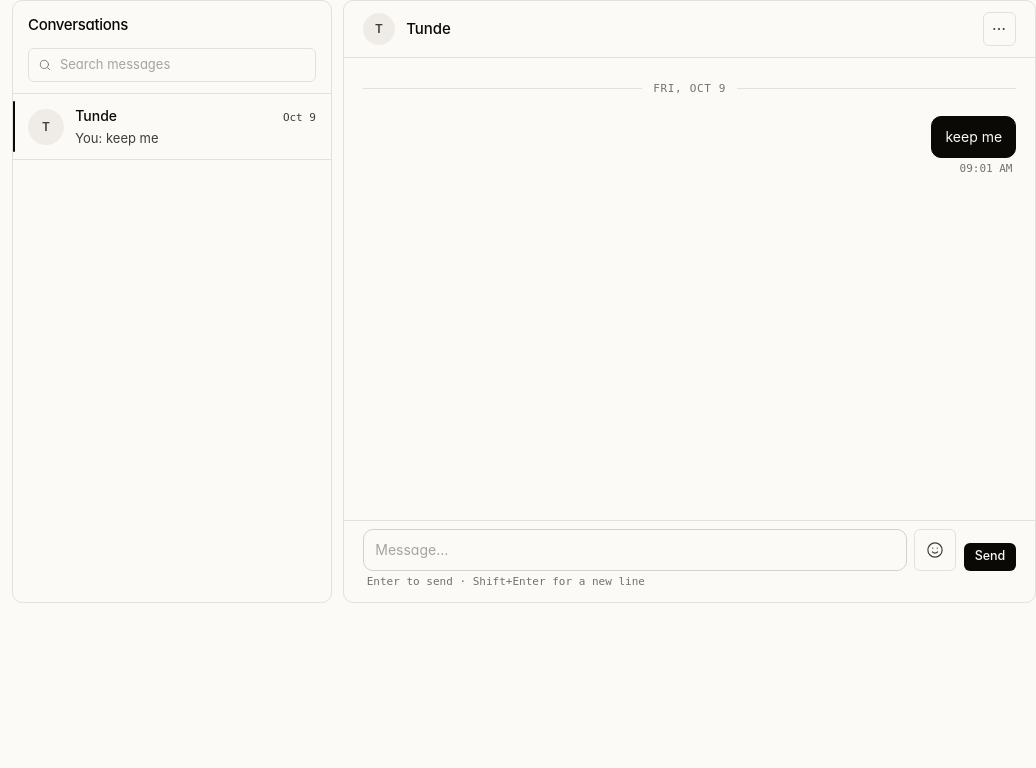
Test: edit and delete (owner ruling 2) › Escape cancels an edit and keeps the original
Right-click the text "keep me": (974, 137) [931,116,1016,158]
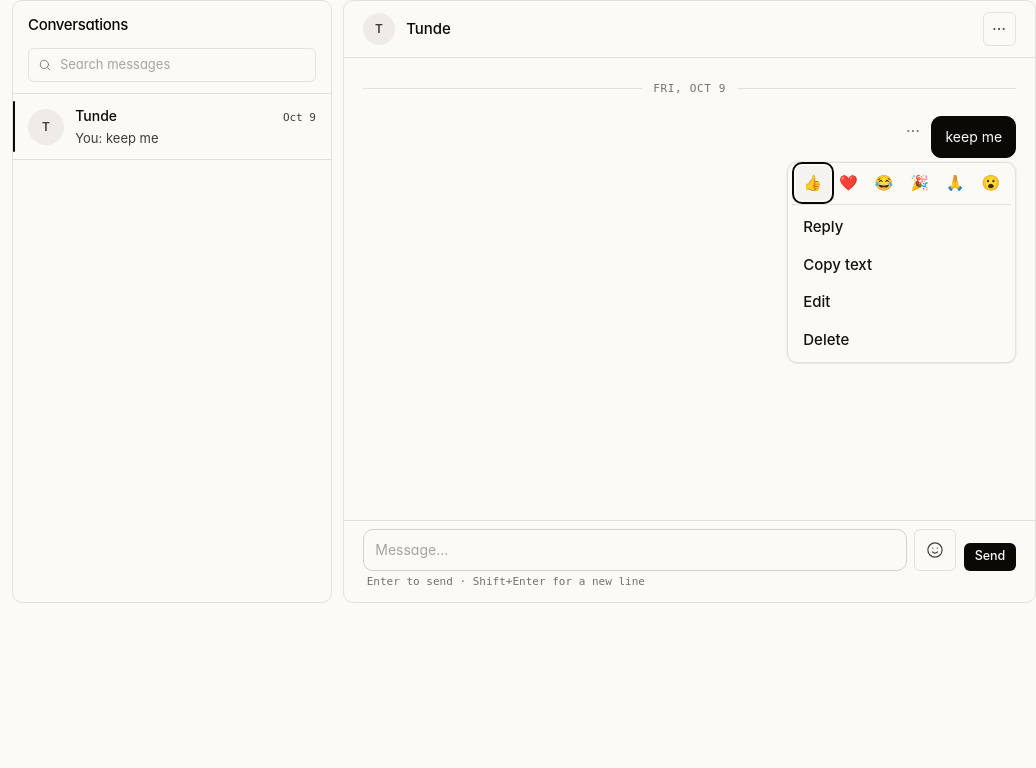
Click the menu item "Edit": (902, 302) [792,284,1011,321]
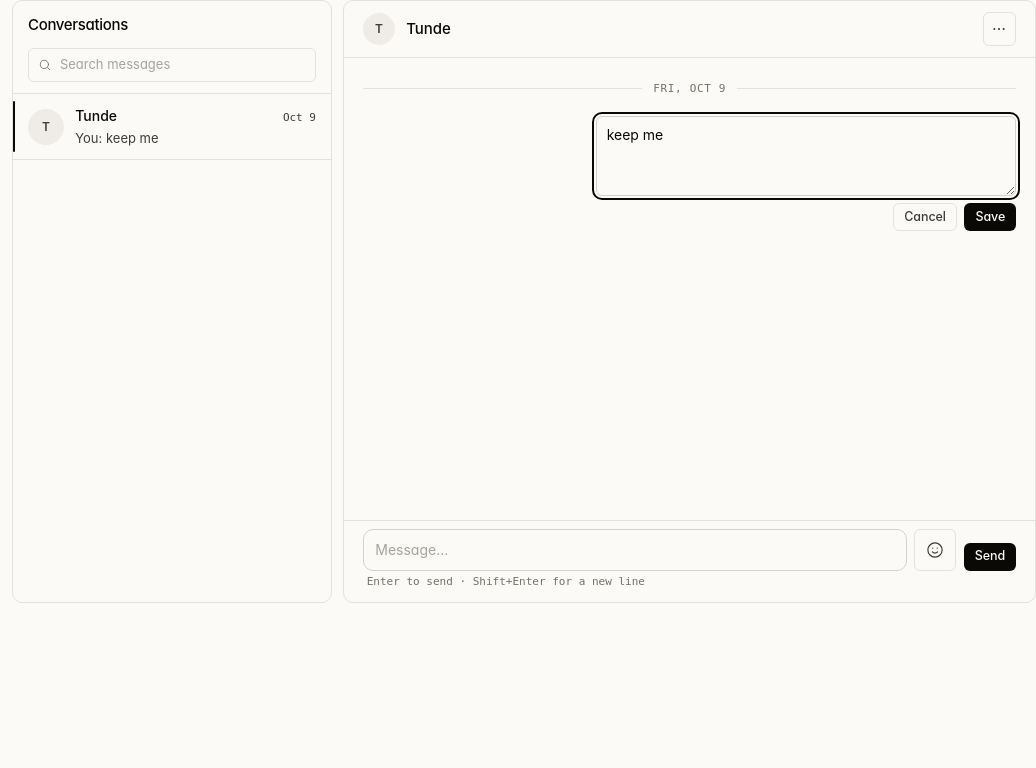
Replace the text in the text box named "Edit message" with "never mind": (806, 156) [596,116,1016,196]
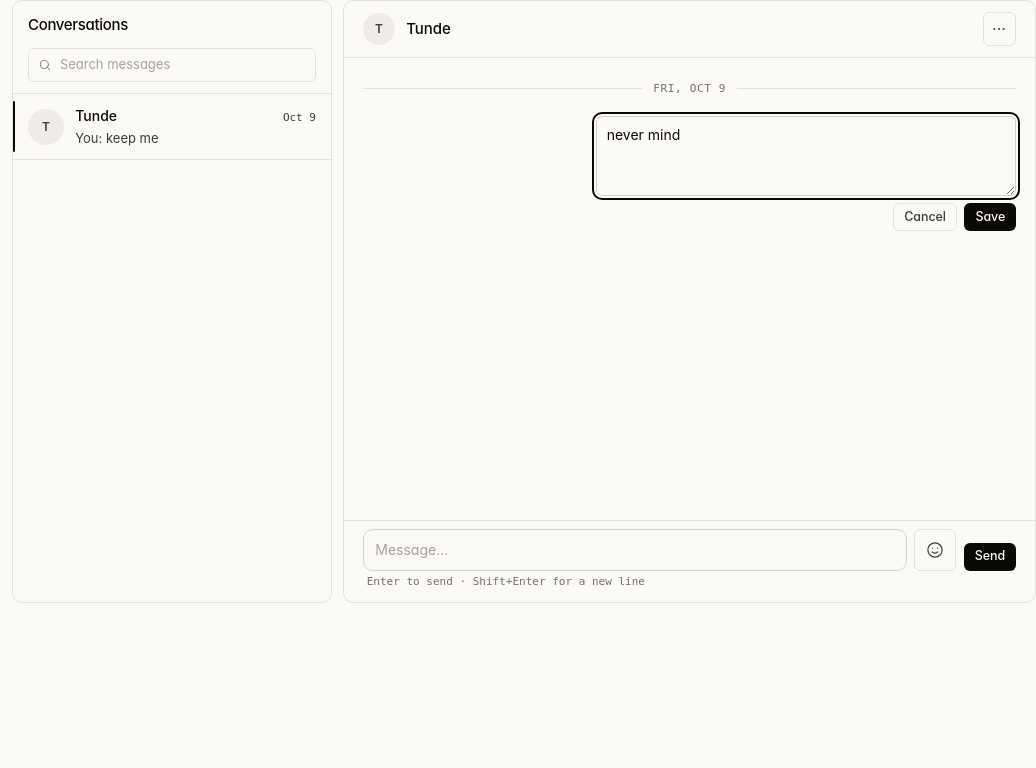
Press Escape in the text box named "Edit message", box [596,116,1016,196]
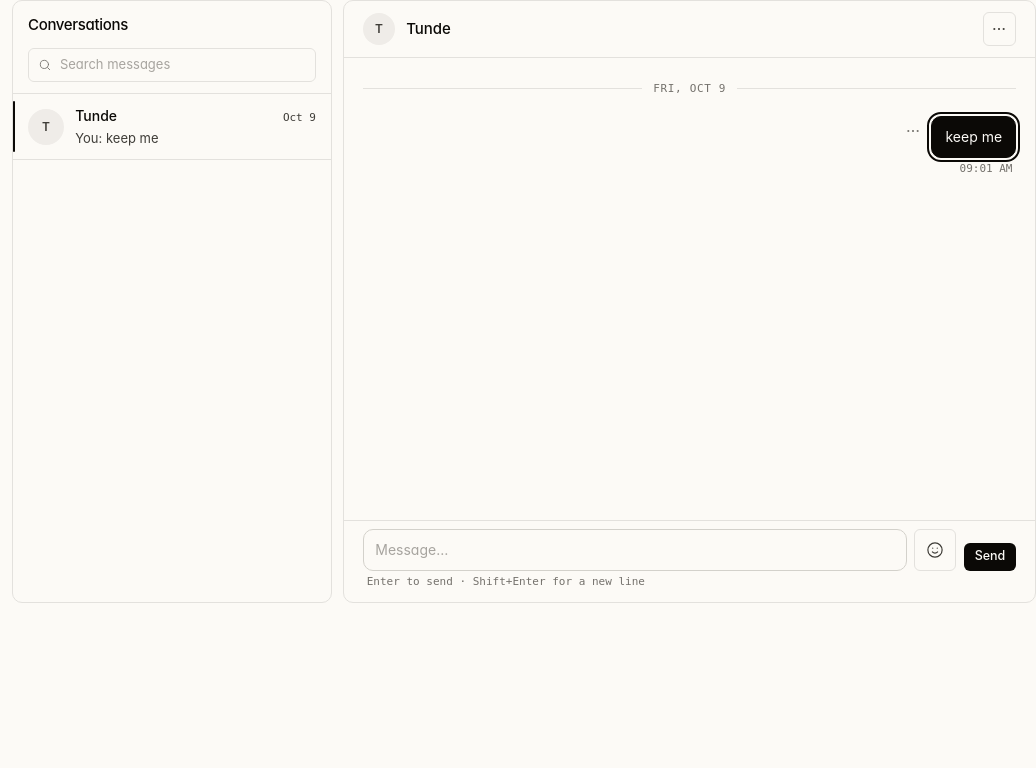
Expected: the text "keep me" is shown, [931,116,1016,158]
